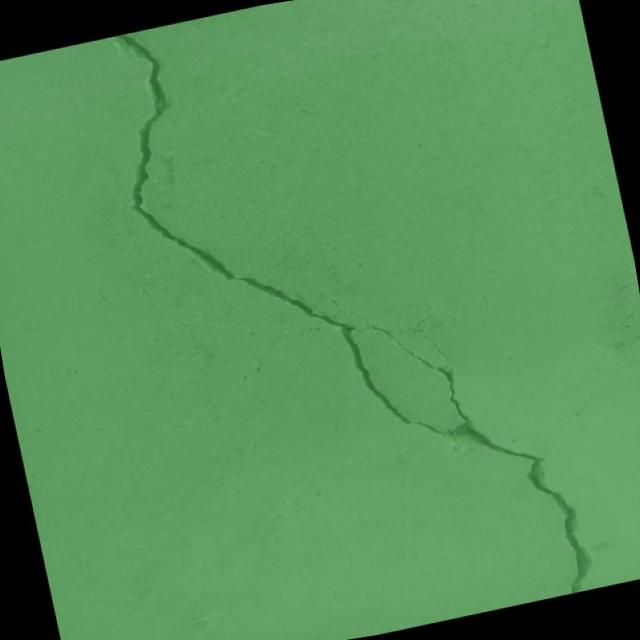crack: (93, 0, 600, 640)
